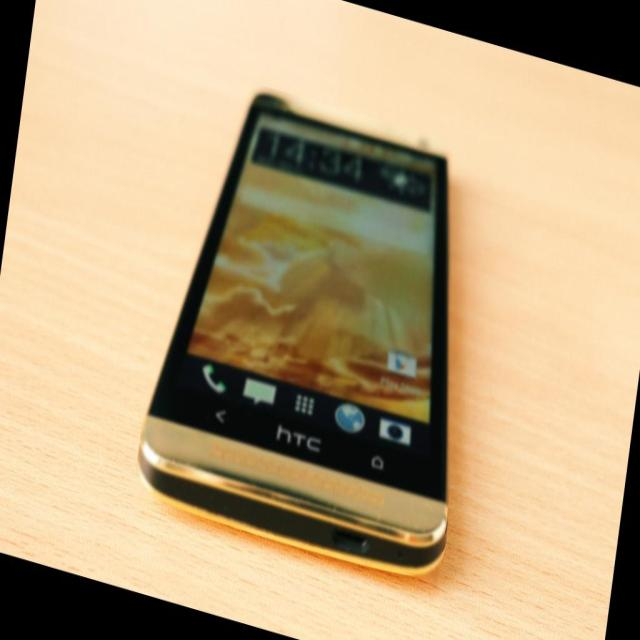handphone: (149, 94, 457, 574)
